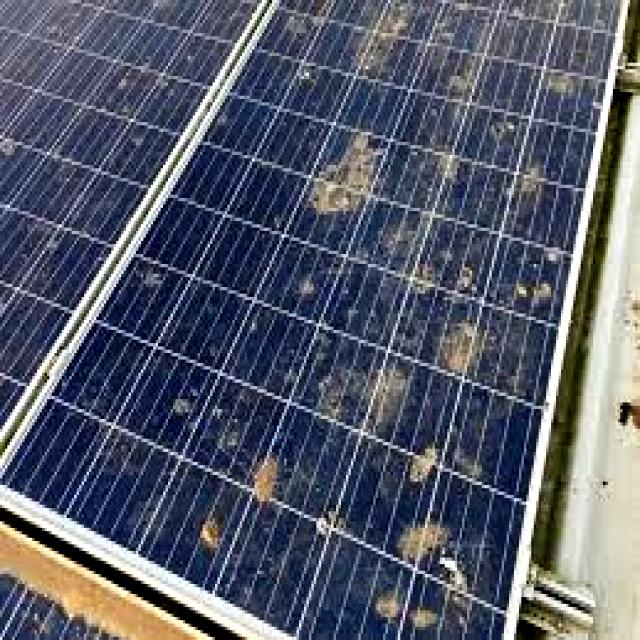bird: (306, 114, 398, 207), (393, 500, 478, 586), (512, 230, 576, 310), (354, 359, 420, 425), (430, 247, 487, 310), (433, 316, 488, 380), (508, 132, 546, 219), (364, 0, 396, 92), (364, 598, 462, 628), (543, 58, 592, 118), (248, 446, 290, 512), (190, 502, 232, 564), (156, 385, 212, 429), (120, 266, 195, 298), (288, 254, 330, 310), (433, 69, 478, 117), (303, 504, 357, 540), (409, 434, 446, 478)
